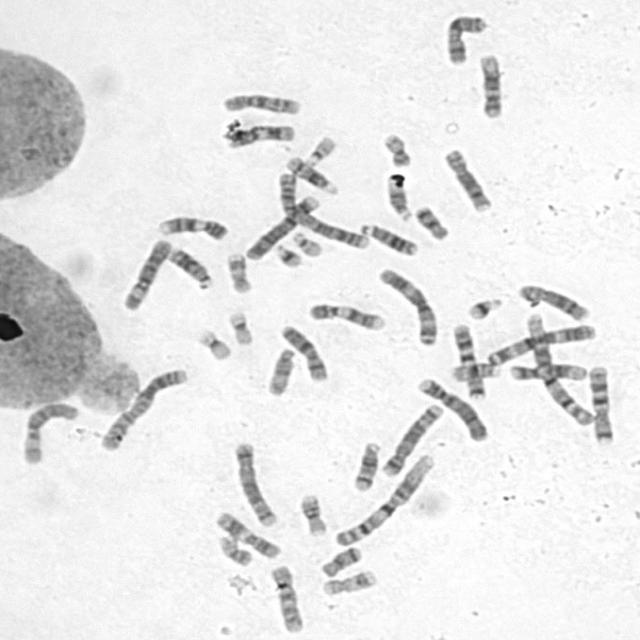A1: (330, 449, 438, 548), (519, 308, 596, 427)
A2: (95, 362, 190, 452), (273, 168, 372, 250)
A3: (374, 263, 441, 347), (482, 320, 598, 366)
B4: (242, 192, 322, 262), (414, 372, 491, 442)
B5: (378, 400, 446, 478), (230, 437, 280, 528)
C10: (265, 560, 307, 635), (220, 89, 302, 115)
C11: (210, 507, 283, 560), (221, 120, 297, 150)
C12: (475, 50, 506, 119), (505, 358, 590, 382)
C6: (117, 234, 173, 312), (18, 397, 81, 466)
C7: (449, 320, 488, 401), (586, 362, 616, 445)
C8: (440, 145, 496, 213), (515, 279, 593, 322)
C9: (304, 298, 388, 332), (153, 212, 230, 242)
D13: (356, 218, 421, 257), (164, 243, 214, 291)
D14: (282, 152, 340, 196), (348, 436, 384, 493)
D15: (263, 344, 297, 397), (382, 170, 414, 223)
E16: (296, 489, 330, 537), (448, 359, 502, 382)
E17: (318, 565, 379, 597), (222, 248, 255, 294)
E18: (316, 542, 364, 578), (411, 201, 451, 242)
F19: (193, 326, 234, 362), (224, 307, 256, 346)
F20: (214, 531, 254, 567), (379, 129, 414, 168)
G21: (463, 292, 505, 321), (272, 240, 304, 268)
G22: (302, 131, 338, 166), (288, 227, 324, 258)
X: (276, 320, 332, 382), (441, 10, 489, 66)
